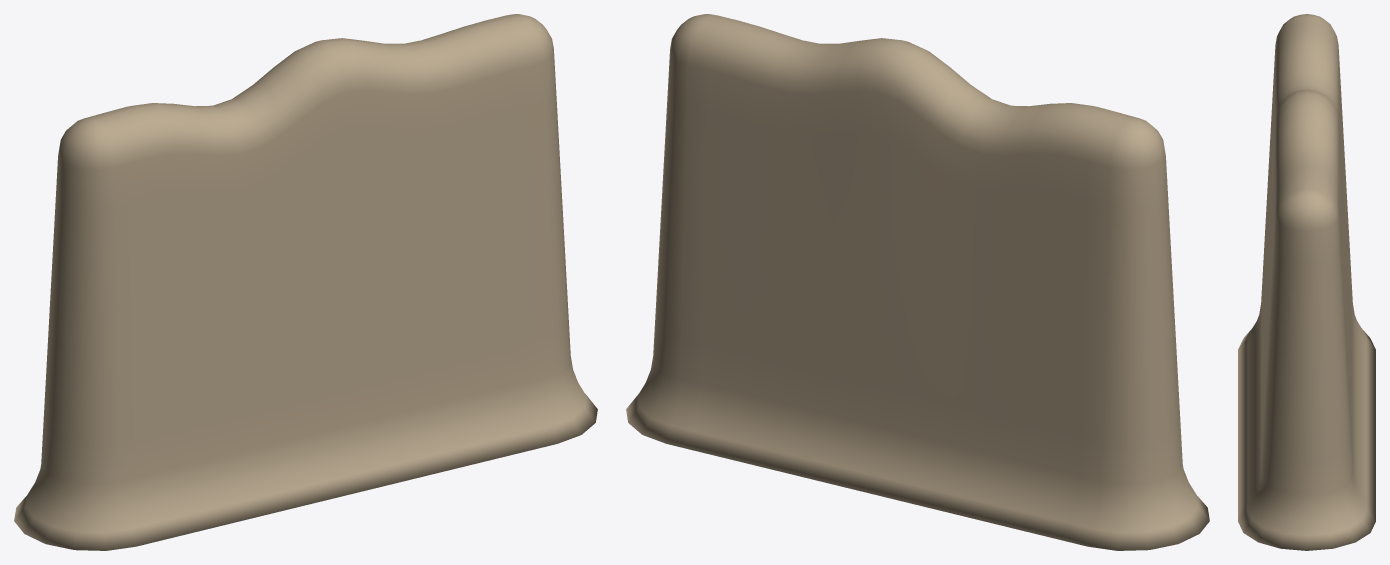
File: KFB_Wall_straight_capped.r3.glb
3 views of the same model, side by side, from view 1: azimuth 30°, elevation 25°; view 2: azimuth 150°, elevation 25°; view 3: azimuth 270°, elevation 25° (orthographic). The views are drawn at different scales.
Visible parts, largest first — view 1: KFB_Wall_straight_capped; view 2: KFB_Wall_straight_capped; view 3: KFB_Wall_straight_capped.
Part boxes in pixels (bbox=[...]): KFB_Wall_straight_capped: bbox=[14, 14, 597, 550]; KFB_Wall_straight_capped: bbox=[626, 14, 1209, 550]; KFB_Wall_straight_capped: bbox=[1238, 14, 1375, 550].
Bounding box in the file's own units: 5.35 × 3.79 × 1.35.
